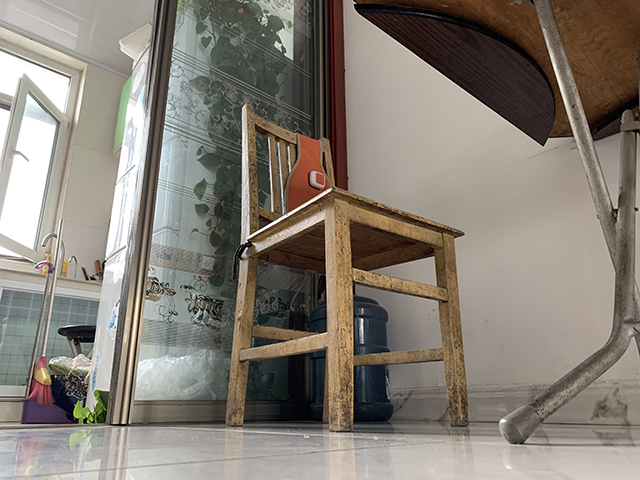cabinet: (1, 266, 102, 424)
stool: (222, 100, 473, 433)
table: (350, 1, 640, 447)
